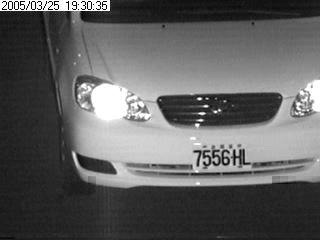plate: (189, 144, 253, 172)
